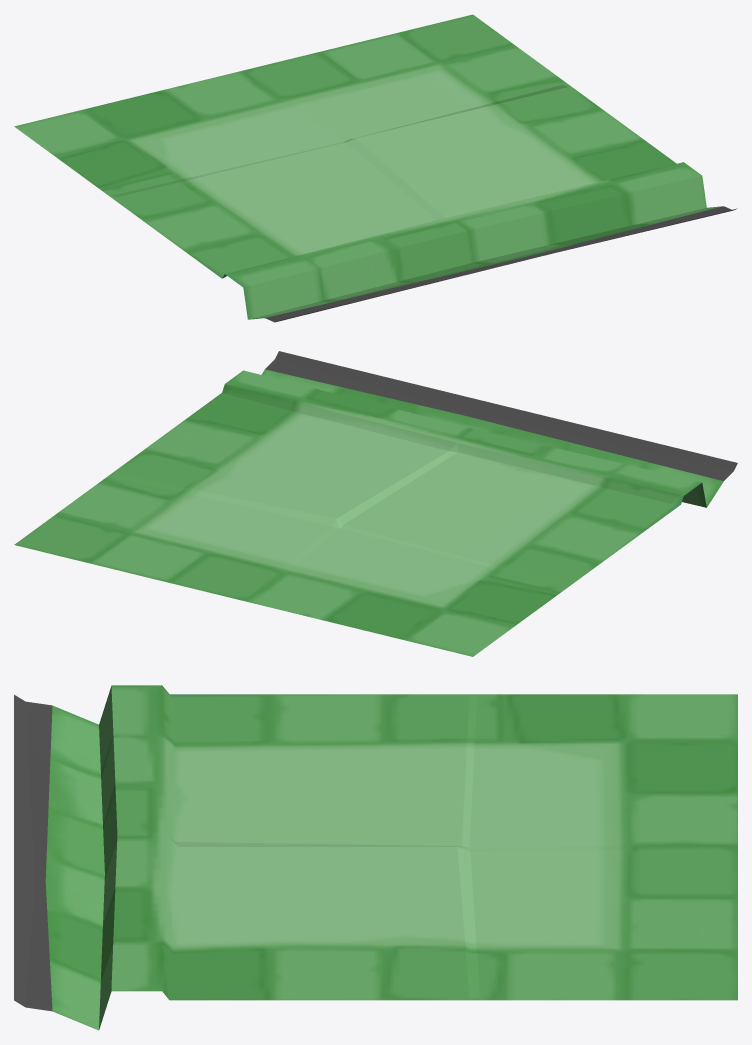
File: Floor_Sidewalk_Straight.fbx
3 renders of one model, top to bottom at view 1: azimuth 30°, elevation 25°; view 2: azimuth 150°, elevation 25°; view 3: azimuth 270°, elevation 25°, orthographic. The views are drawn at different scales.
Visible parts, largest first — view 1: SM_Env_Sidewalk_Straight_01; view 2: SM_Env_Sidewalk_Straight_01; view 3: SM_Env_Sidewalk_Straight_01.
Part boxes in pixels (x1,y1,x2,y2): SM_Env_Sidewalk_Straight_01: (14, 14, 737, 322); SM_Env_Sidewalk_Straight_01: (14, 351, 737, 656); SM_Env_Sidewalk_Straight_01: (14, 685, 737, 1030).
Size of the model in its own units: 5 by 0.3 by 5.
